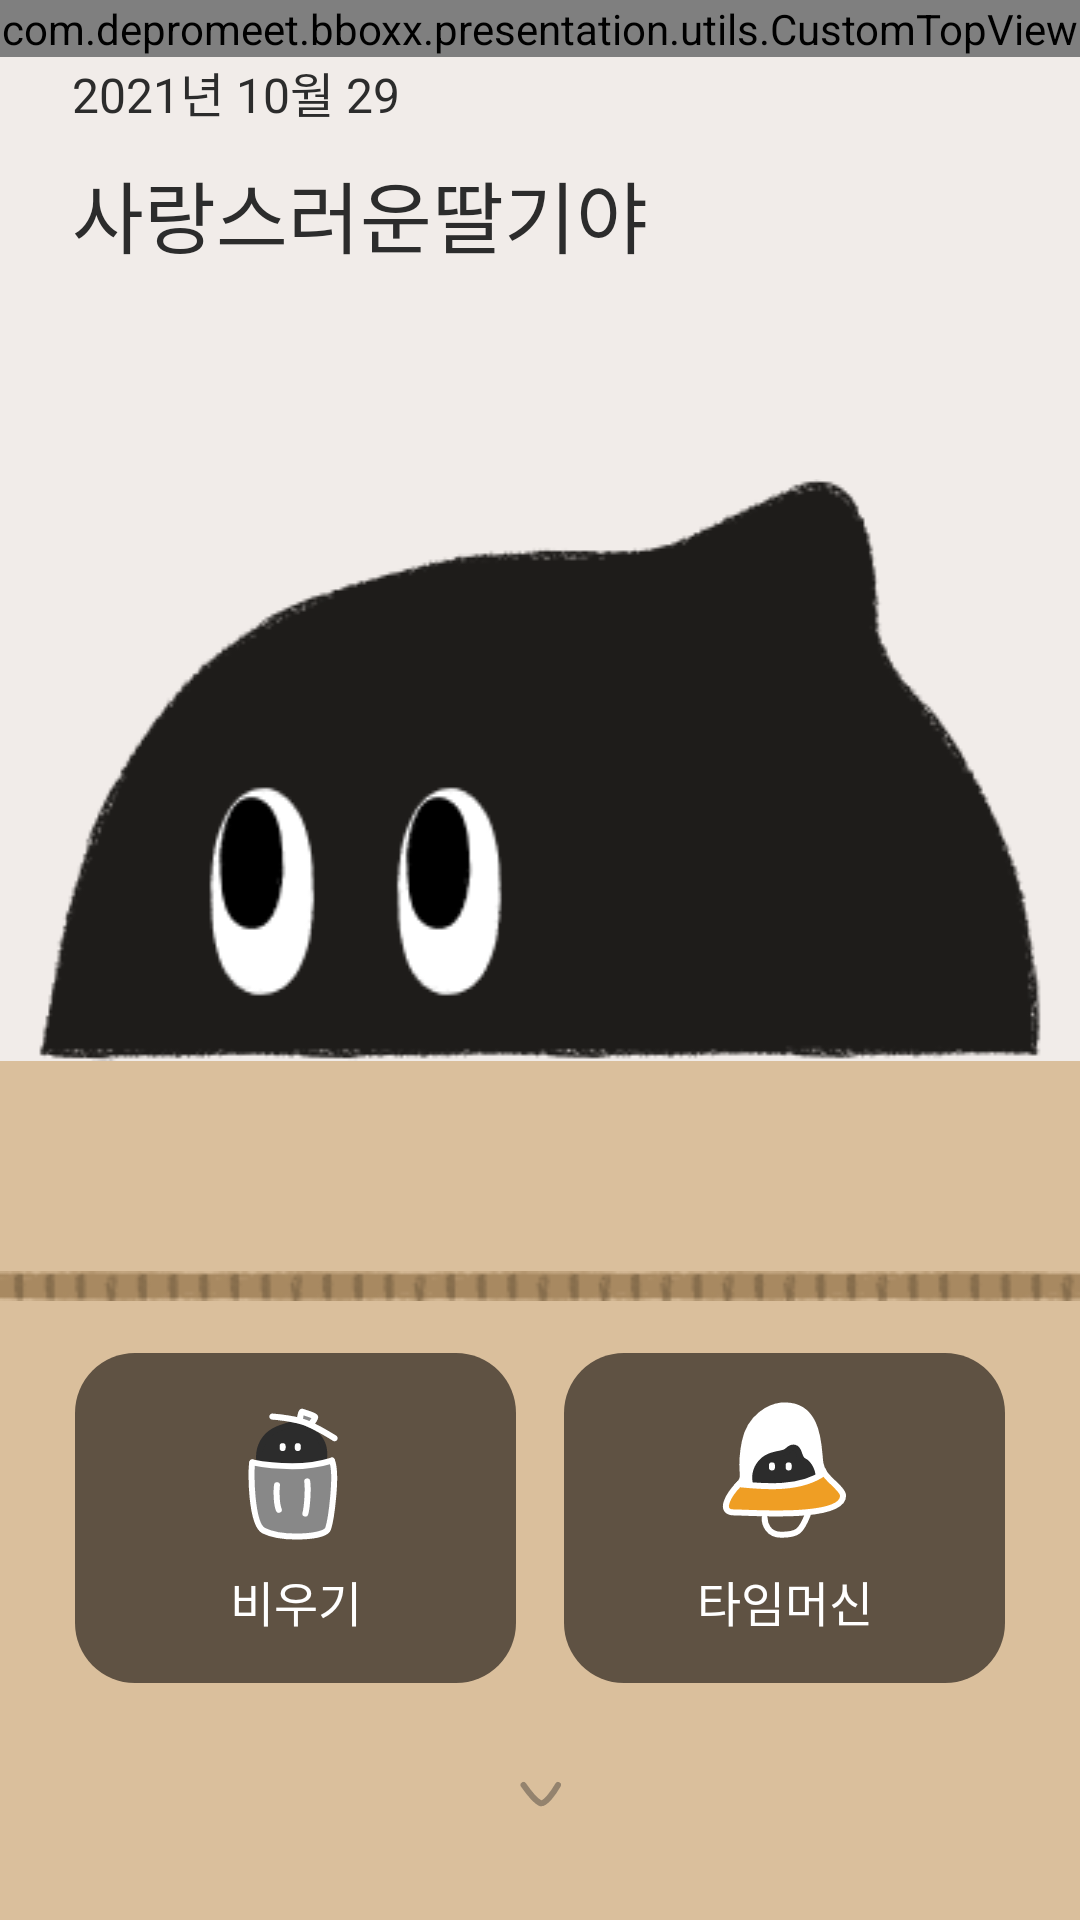

Where to tap for icons on this 1080×1920 app screen, as (x=x, y=y):
down: (x=540, y=1794)
